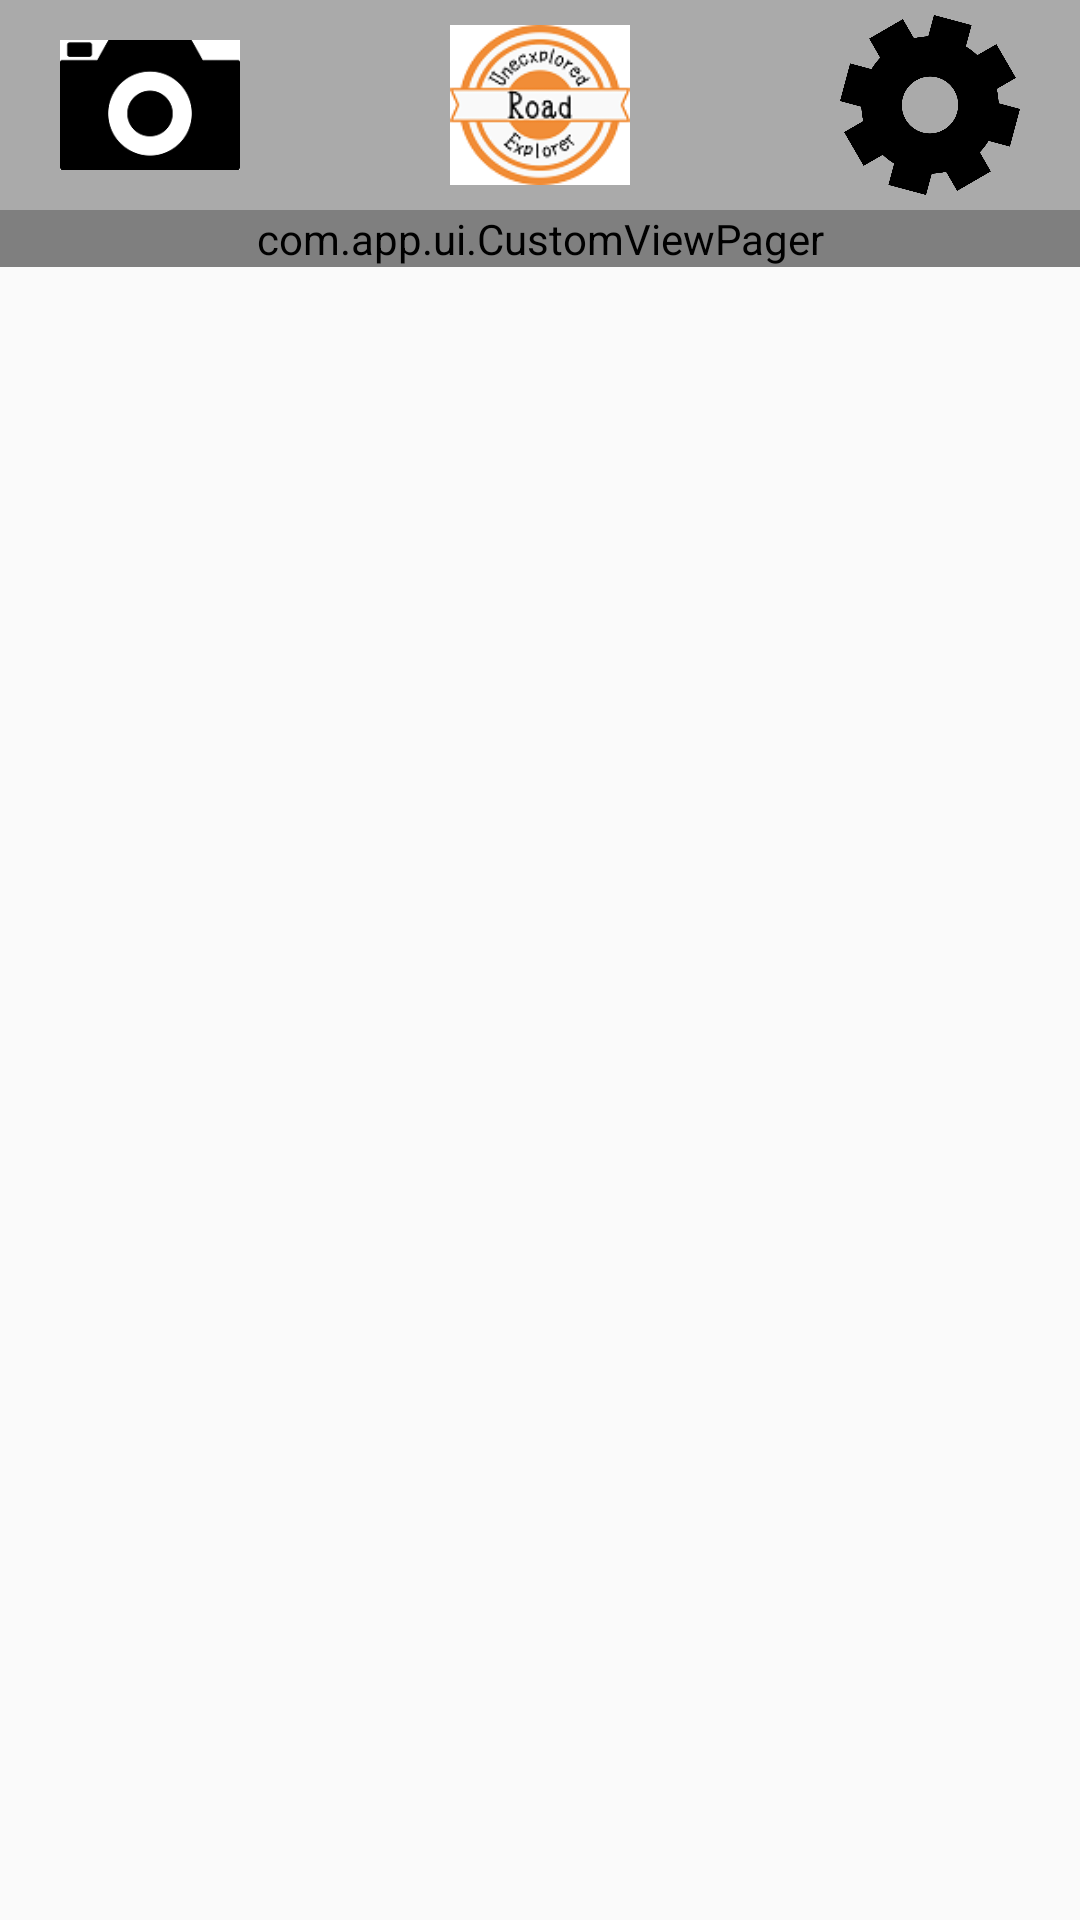

Where to tap for icons on this 1080w x 1920h app screen, as point (x, y):
camera: point (150, 105)
option: point (930, 105)
